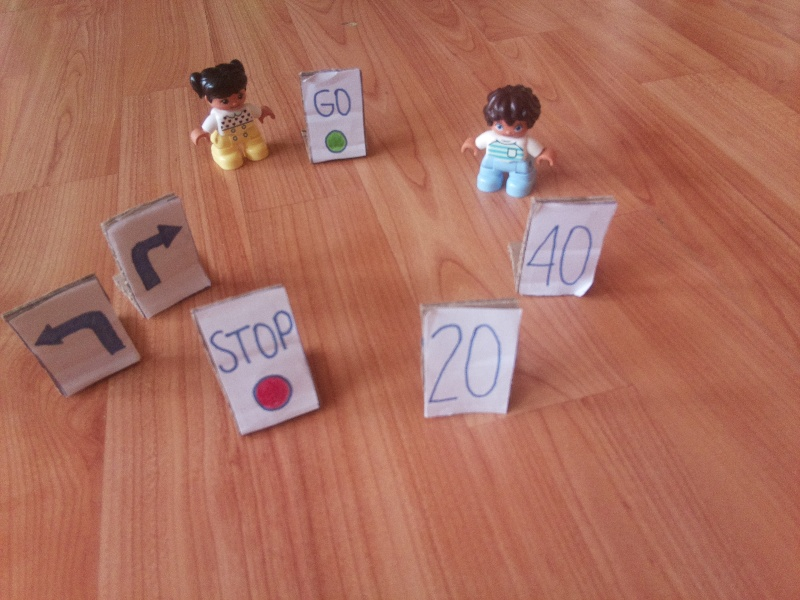20: (428, 320, 503, 402)
40: (525, 223, 597, 292)
go: (309, 83, 358, 151)
person: (181, 59, 278, 170), (463, 81, 555, 193)
stop: (207, 309, 302, 409)
turn left: (31, 310, 123, 357)
turn right: (128, 222, 188, 292)
